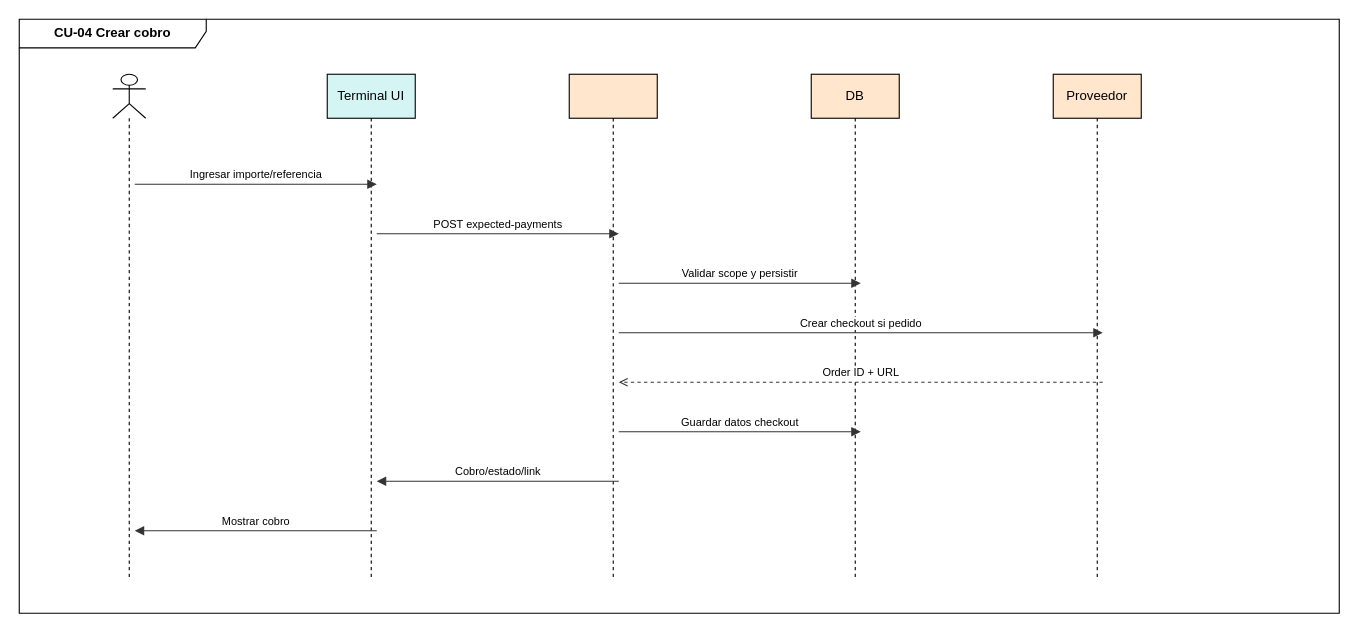
Image size: 1359x633. Some labels were removed from this diagram. The box of each missing label's shape, as (x1, y1, x2, y2) in pixels:
API: (568, 73, 657, 580)
Cajero: (112, 73, 146, 580)
